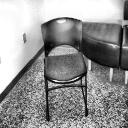chair_success: (33, 12, 96, 122)
